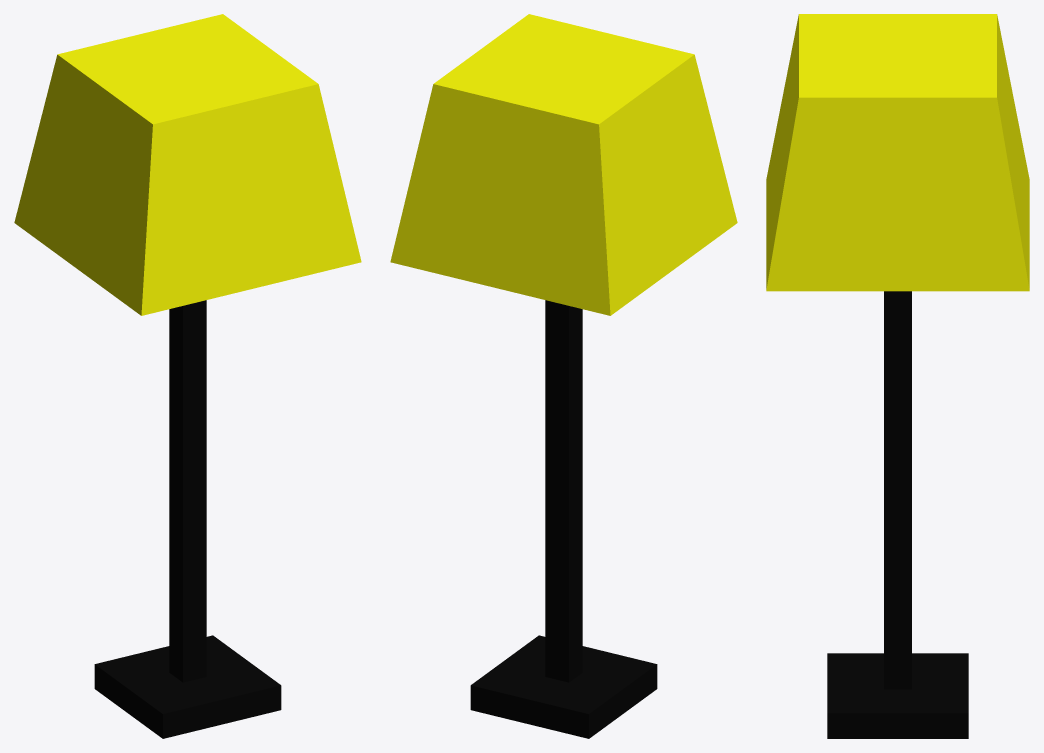
The picture shows the model from 3 angles, left to right: view 1: azimuth 30°, elevation 25°; view 2: azimuth 150°, elevation 25°; view 3: azimuth 270°, elevation 25°; orthographic projection. The views are drawn at different scales.
Parts seen in each view (by area): view 1: Box031, Box030, Box029; view 2: Box031, Box030, Box029; view 3: Box031, Box029, Box030.
Boxes of the visible parts, left/top/right/bottom form: Box031: left=14, top=14, right=361, bottom=315; Box030: left=169, top=300, right=206, bottom=682; Box029: left=94, top=635, right=281, bottom=738; Box031: left=390, top=14, right=737, bottom=315; Box030: left=545, top=300, right=582, bottom=682; Box029: left=470, top=635, right=657, bottom=738; Box031: left=766, top=14, right=1029, bottom=291; Box029: left=827, top=653, right=968, bottom=738; Box030: left=884, top=291, right=911, bottom=689.
Bounding box in the file's own units: 9.3 × 25.45 × 9.3.
